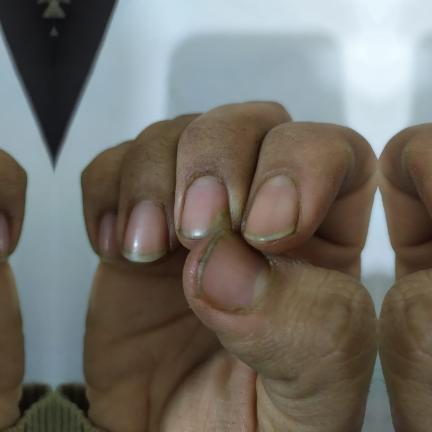Nail: (197, 236, 268, 309), (243, 175, 299, 242), (181, 176, 231, 240), (123, 200, 169, 262), (98, 212, 125, 263), (0, 213, 10, 263)
